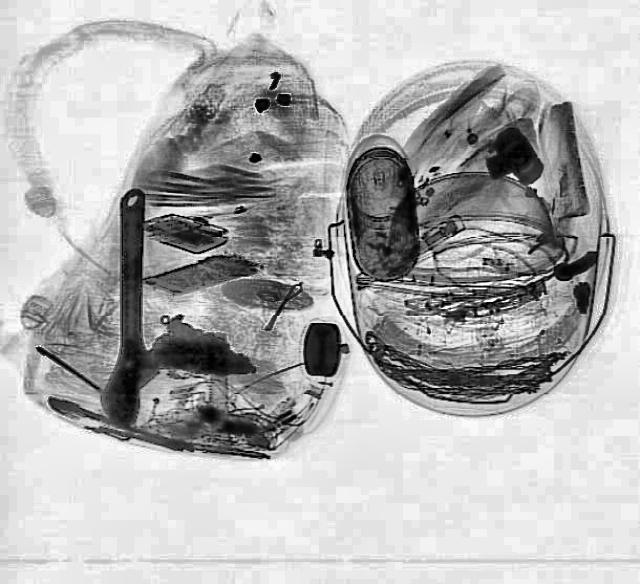Wrench: (98, 187, 162, 428)
